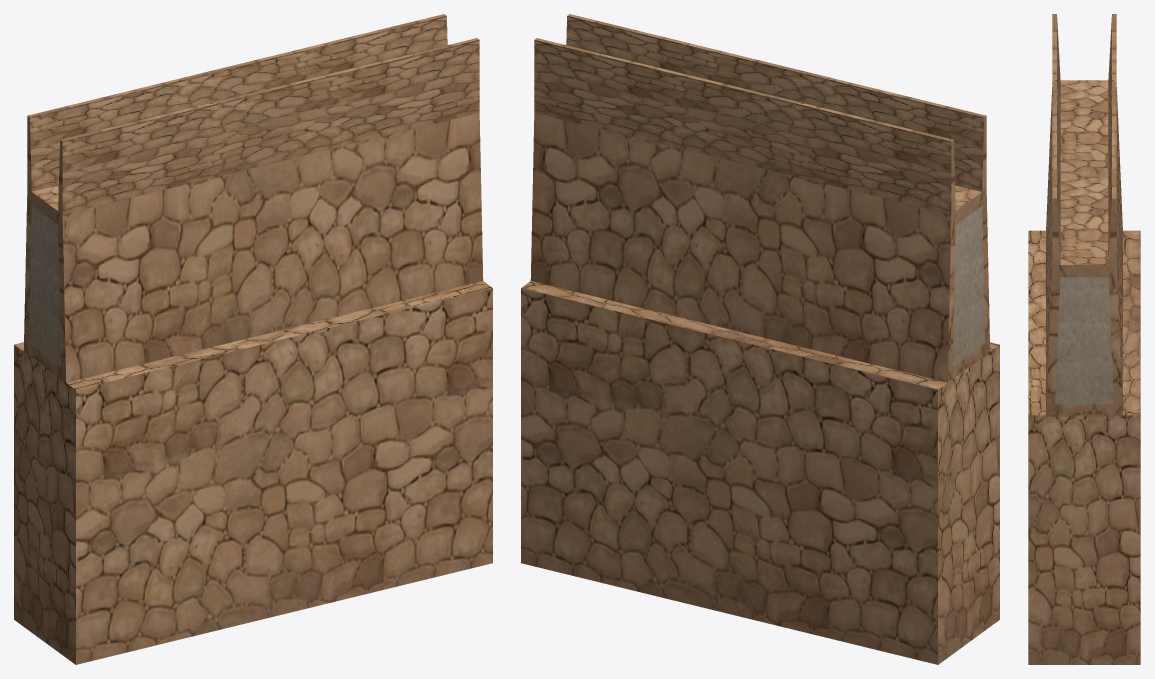
The model's file is tara_wall_med.dae.
The picture shows the model from 3 angles, left to right: view 1: azimuth 30°, elevation 25°; view 2: azimuth 150°, elevation 25°; view 3: azimuth 270°, elevation 25°; orthographic projection. The views are drawn at different scales.
Parts seen in each view (by area): view 1: wall_med1; view 2: wall_med1; view 3: wall_med1.
Boxes of the visible parts, <box> form: wall_med1: <box>14,14,492,664</box>; wall_med1: <box>521,14,999,664</box>; wall_med1: <box>1028,14,1140,664</box>.
Bounding box in the file's own units: 24.86 × 6.37 × 29.26.
